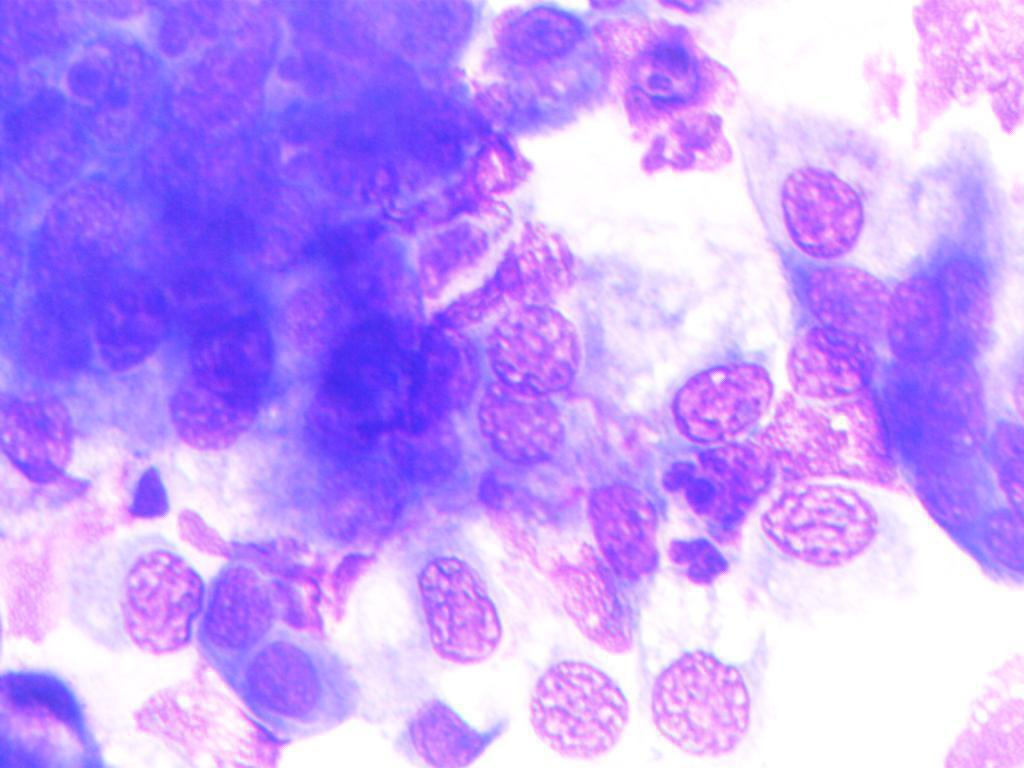epithelial: (641, 582, 776, 767), (62, 526, 205, 658), (397, 541, 507, 672), (872, 343, 998, 457), (517, 649, 630, 768), (762, 139, 868, 255), (646, 356, 774, 443), (38, 176, 144, 274), (756, 490, 876, 575), (60, 33, 158, 130), (483, 302, 583, 394), (584, 479, 669, 582), (776, 316, 882, 397), (240, 637, 348, 716), (167, 53, 271, 133), (403, 693, 511, 767), (189, 313, 289, 390), (87, 274, 173, 363), (475, 382, 561, 465), (0, 393, 76, 486), (168, 368, 257, 447), (810, 264, 900, 339), (907, 454, 987, 529), (979, 502, 1024, 579)
goblet_cell: (886, 238, 1002, 359)
lymphocyte: (619, 31, 719, 108), (490, 3, 589, 63)
neutrophil: (201, 553, 279, 647), (642, 108, 740, 181), (659, 454, 724, 519), (116, 458, 170, 520), (667, 536, 732, 580)
